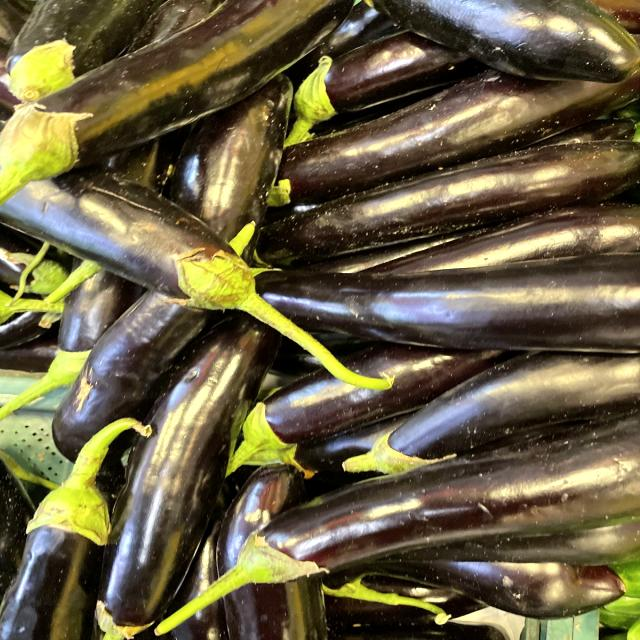eggplant: (150, 406, 640, 640), (4, 155, 393, 393), (86, 296, 310, 640)
